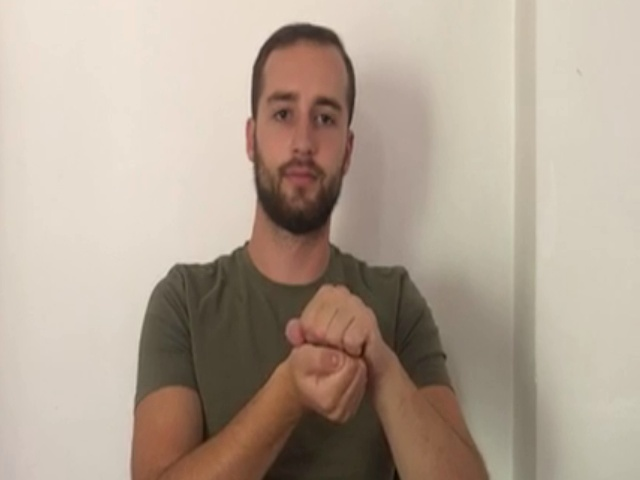Istorija: (277, 282, 378, 426)
